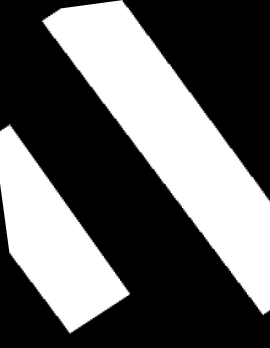parkingspot: (42, 0, 270, 315), (0, 124, 130, 333)
